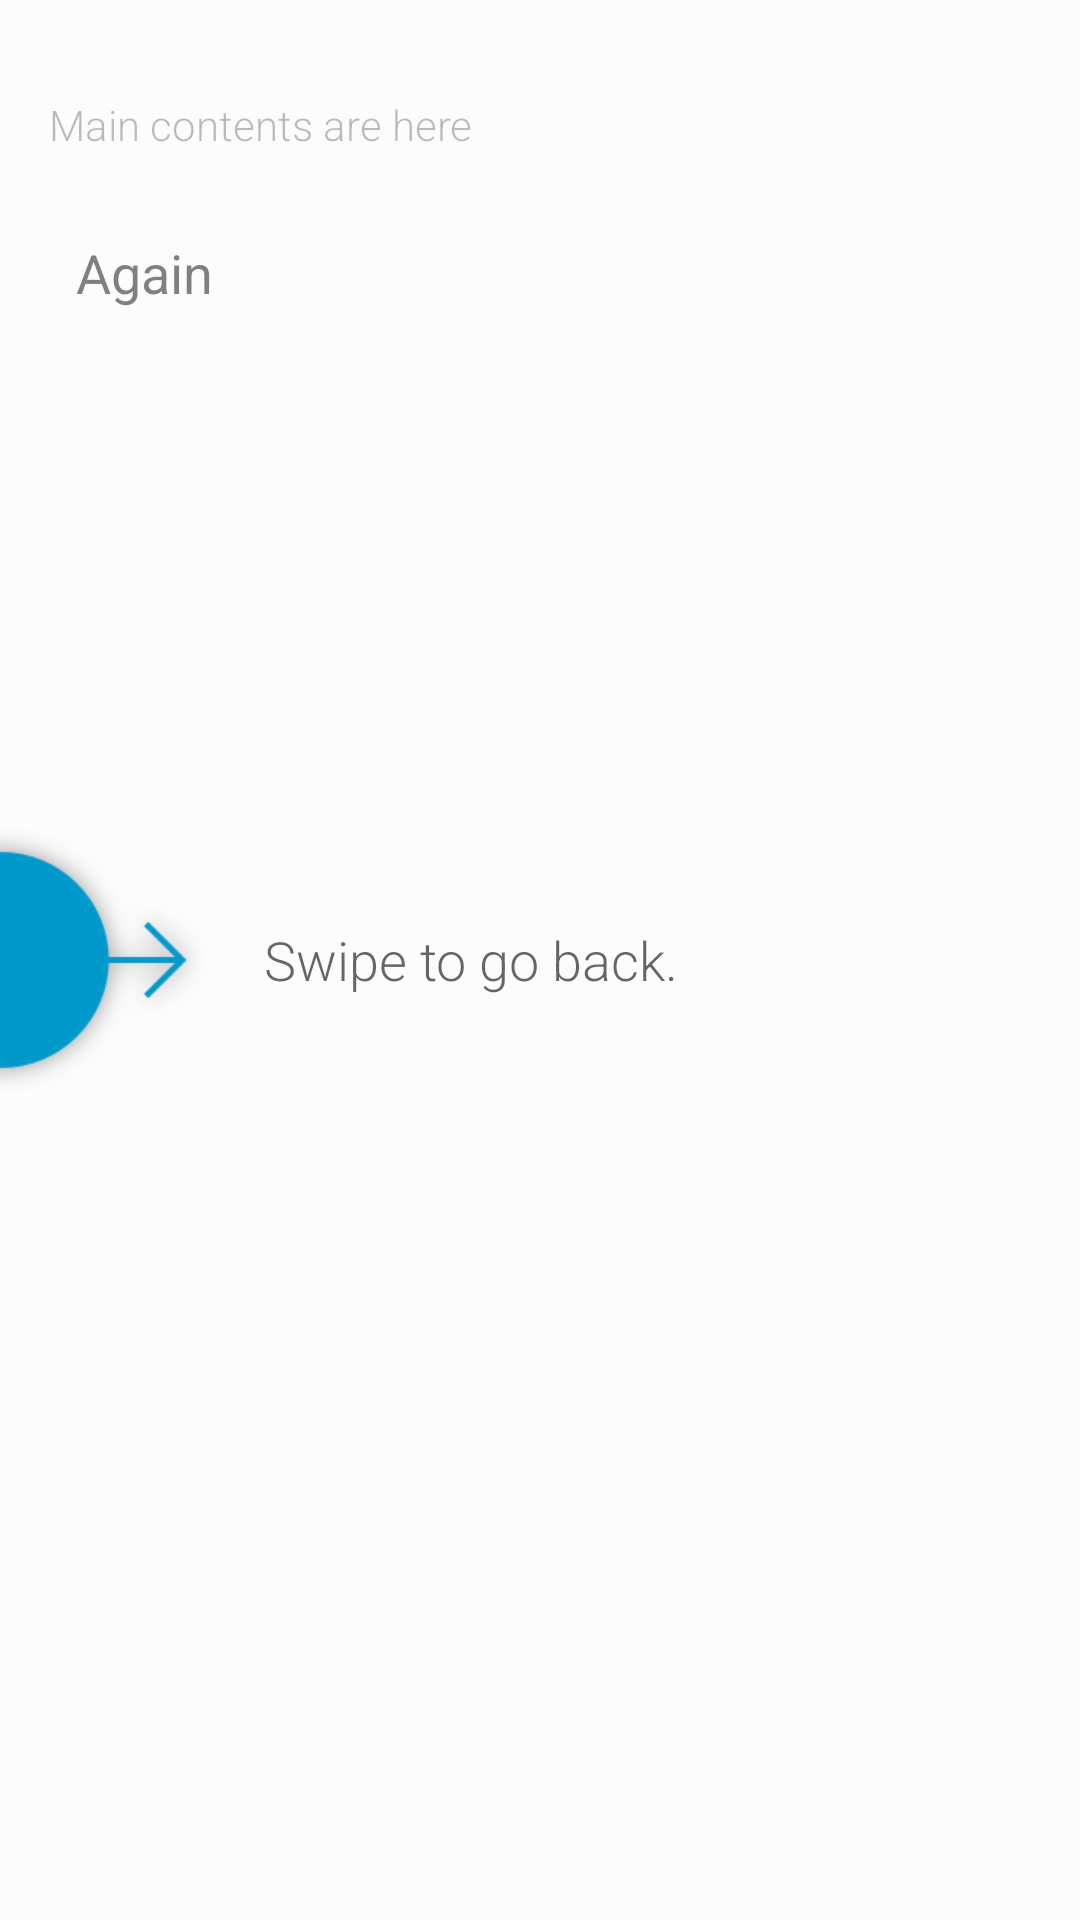

Icon click points for this 1080 x 1920 phone screenshot, format (x=x, y=y):
coach mark: (x=93, y=960)
